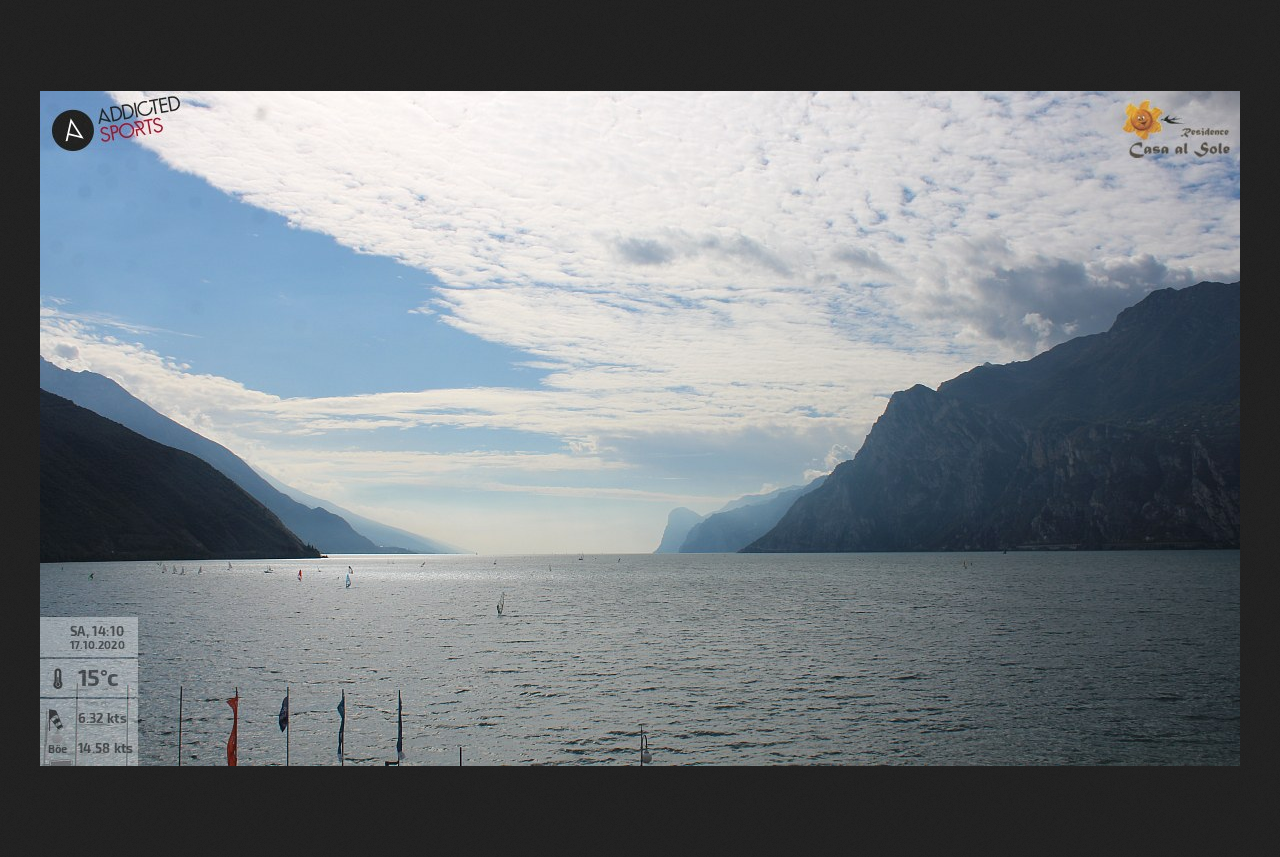maybe: (277, 697, 290, 731)
